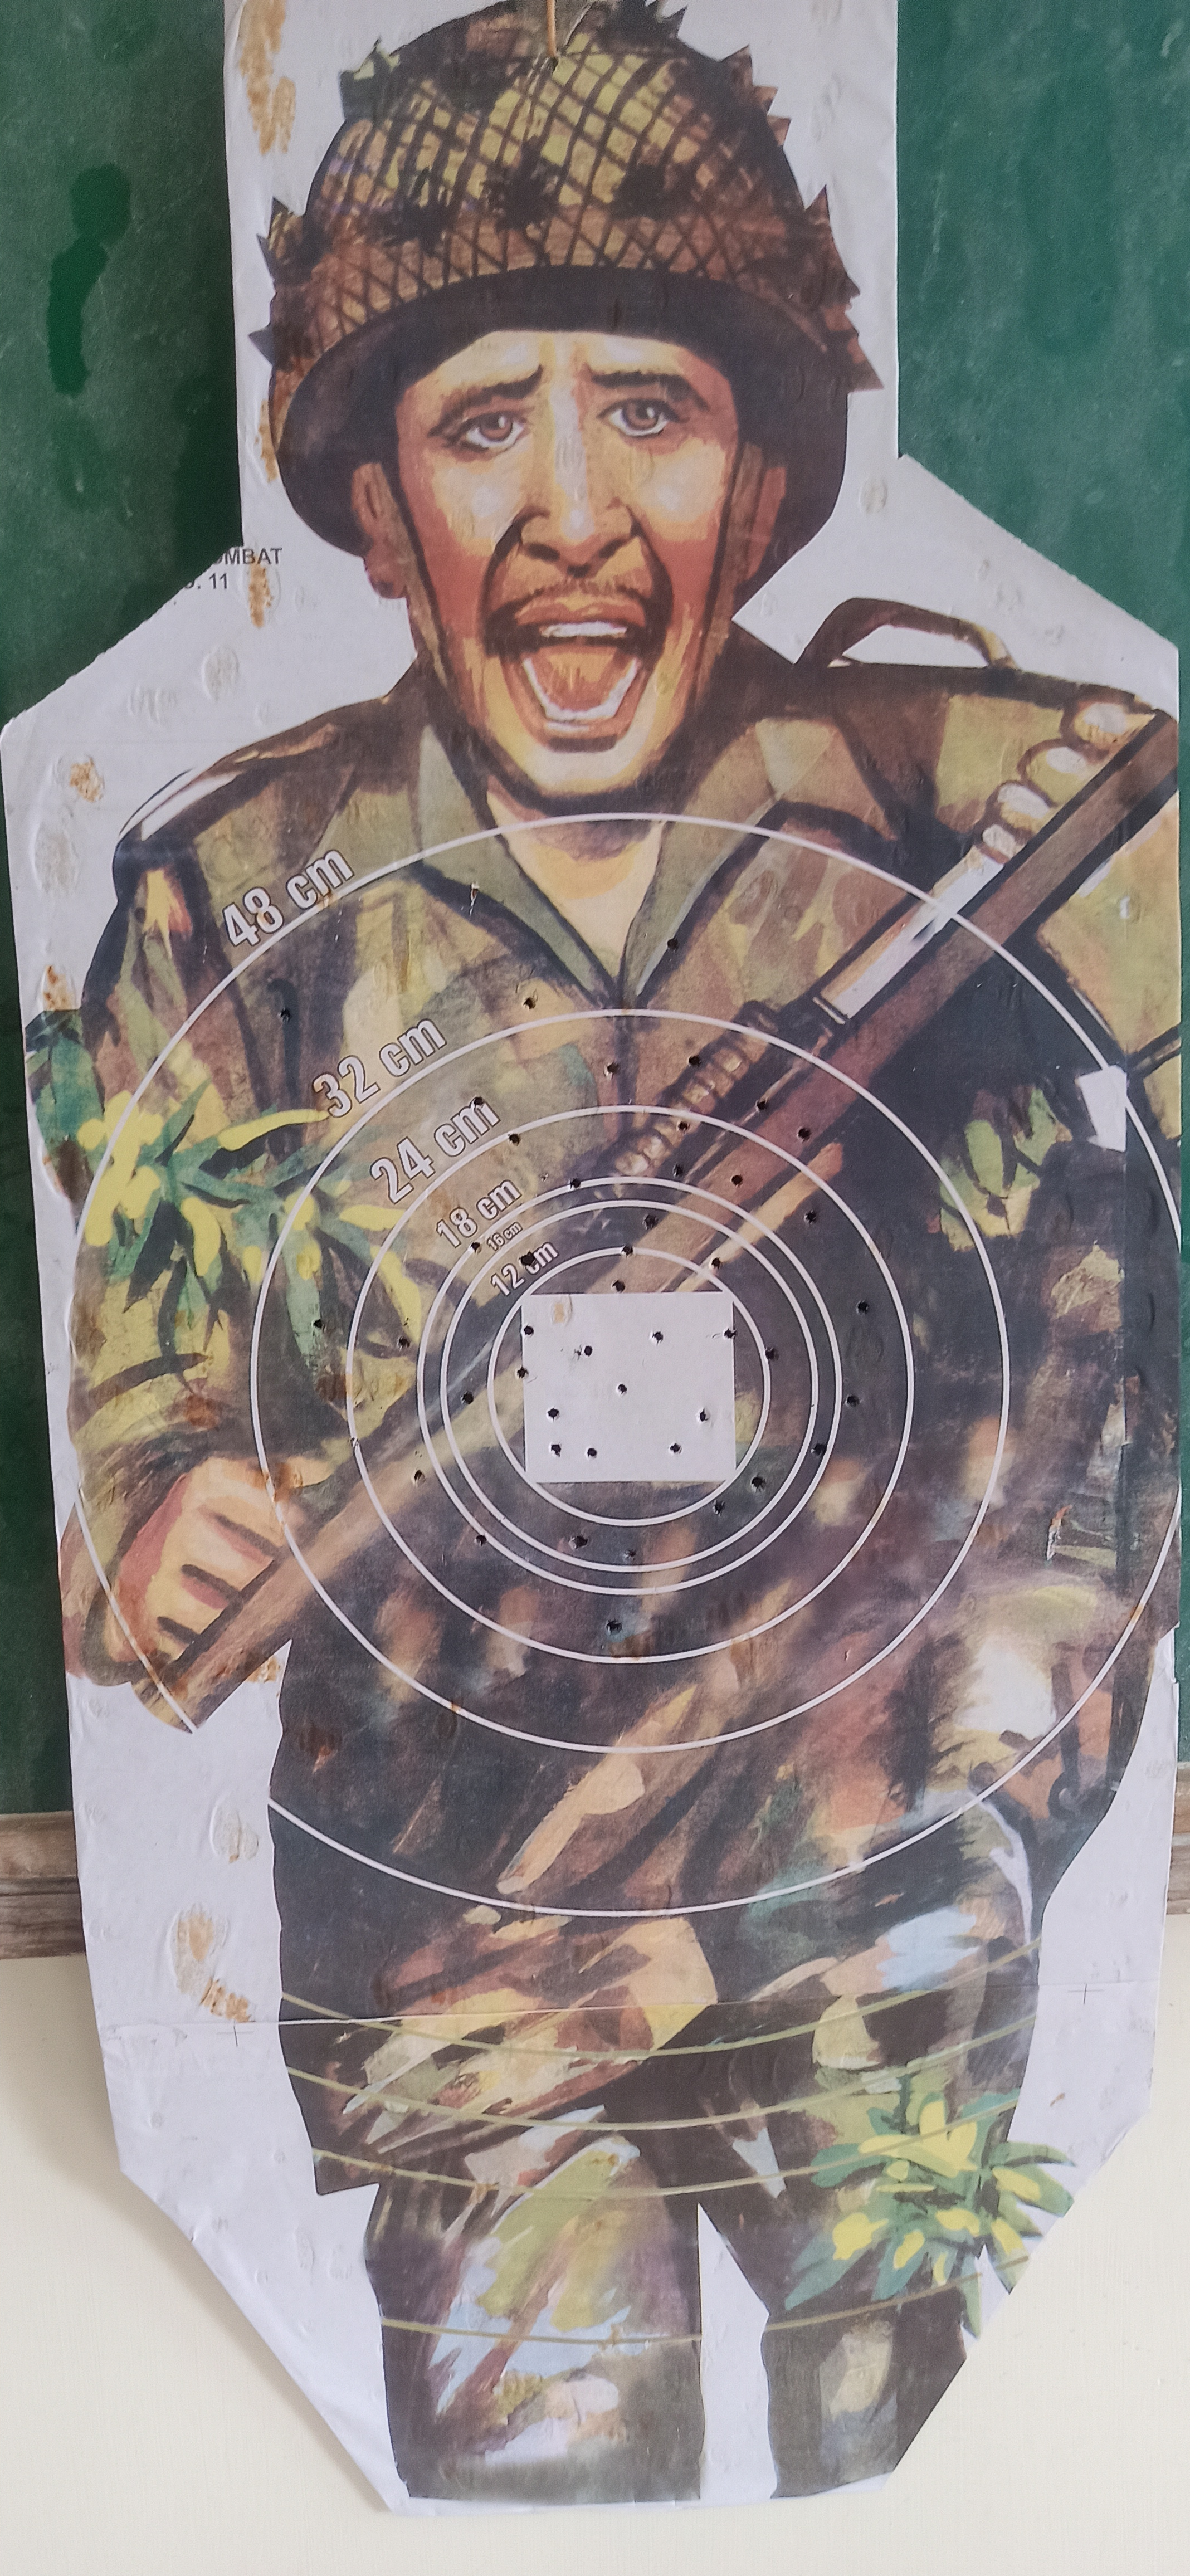bullet hit: (595, 1056, 628, 1079), (270, 1000, 296, 1028), (792, 1119, 819, 1147), (685, 1048, 710, 1078), (657, 933, 689, 956), (799, 1206, 825, 1232), (514, 992, 542, 1017), (666, 1155, 689, 1184), (468, 1088, 493, 1114), (564, 1170, 590, 1194), (636, 1209, 661, 1234), (851, 1298, 876, 1319), (726, 1166, 745, 1194), (603, 1617, 626, 1638), (565, 1531, 588, 1552), (672, 1117, 695, 1138), (753, 1094, 774, 1117), (505, 1125, 526, 1148), (514, 1249, 539, 1268), (842, 1388, 861, 1411), (618, 1546, 643, 1564), (748, 1472, 768, 1493), (809, 1439, 828, 1460), (707, 1252, 726, 1273), (455, 1387, 478, 1405), (610, 1277, 630, 1296), (763, 1342, 781, 1364), (307, 1316, 327, 1334), (618, 1240, 638, 1258), (615, 1382, 634, 1400), (544, 1403, 562, 1423), (722, 1324, 740, 1342), (472, 1533, 491, 1549), (411, 1469, 427, 1488), (648, 1329, 667, 1345), (511, 1364, 531, 1380), (710, 1498, 726, 1516), (667, 1441, 684, 1459), (697, 1408, 715, 1424), (582, 1446, 602, 1460), (396, 1336, 413, 1352), (580, 1342, 595, 1359), (468, 1242, 483, 1257), (521, 1324, 536, 1339), (549, 1442, 562, 1459)
white box: (521, 1291, 741, 1483)
